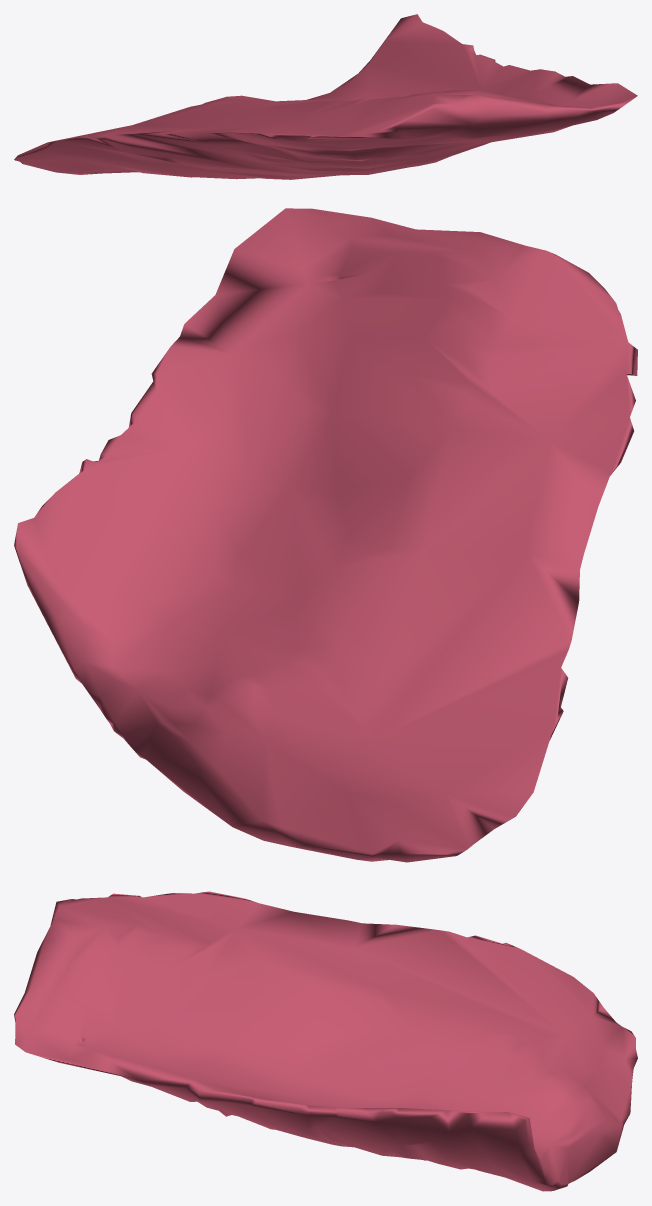
The picture shows the model from 3 angles, top to bottom: view 1: azimuth 30°, elevation 25°; view 2: azimuth 150°, elevation 25°; view 3: azimuth 270°, elevation 25°; orthographic projection. The views are drawn at different scales.
Parts seen in each view (by area): view 1: 右侧旋前方肌; view 2: 右侧旋前方肌; view 3: 右侧旋前方肌.
Boxes of the visible parts, box(x1,y1,x2,y2) form: 右侧旋前方肌: box(14, 14, 637, 179); 右侧旋前方肌: box(14, 208, 637, 862); 右侧旋前方肌: box(14, 891, 637, 1191).
Size of the model in its own units: 0.0687 by 0.0364 by 0.0768.
